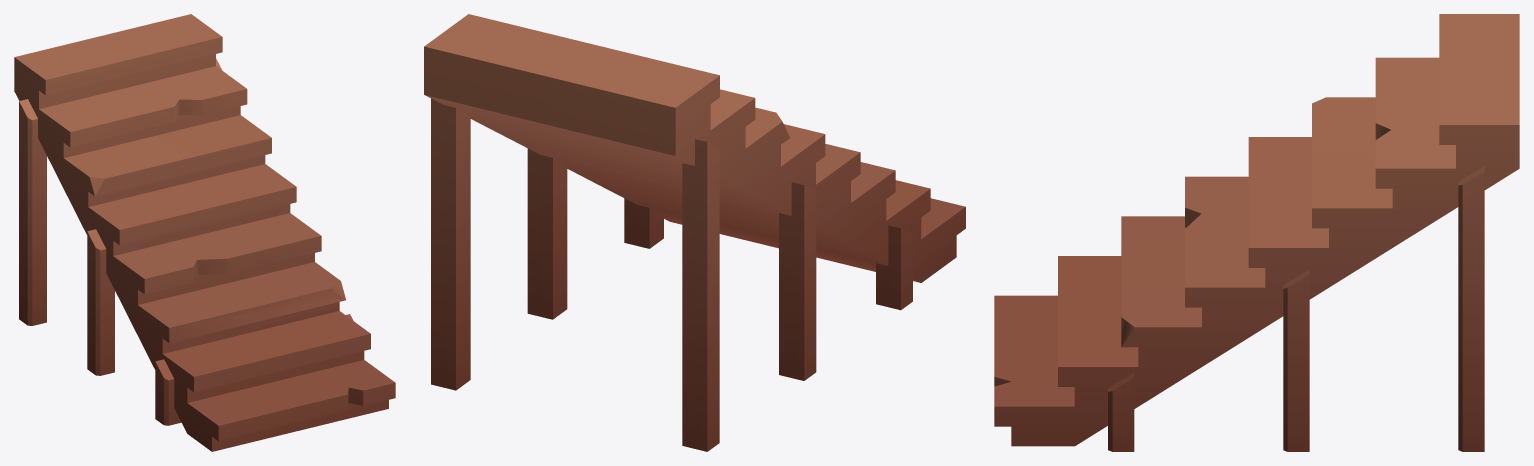
File: stairs_wood.glb
The picture shows the model from 3 angles, left to right: view 1: azimuth 30°, elevation 25°; view 2: azimuth 150°, elevation 25°; view 3: azimuth 270°, elevation 25°; orthographic projection. The views are drawn at different scales.
Visible parts, largest first — view 1: stairs_wood; view 2: stairs_wood; view 3: stairs_wood.
Boxes of the visible parts, x1,y1,x2,y2 form: stairs_wood: [14, 14, 395, 451]; stairs_wood: [424, 14, 965, 451]; stairs_wood: [994, 14, 1519, 451].
Size of the model in its own units: 3.3 by 4.05 by 6.
1 material, 1 textured.
